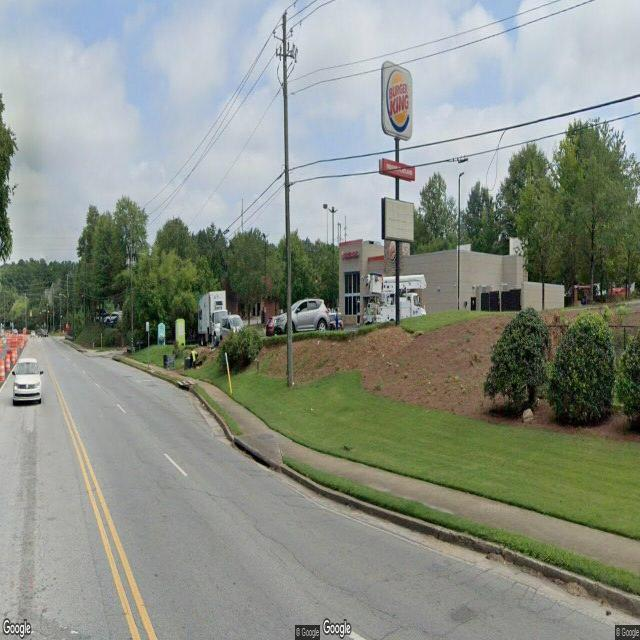seating: (165, 356, 175, 368)
trash_can: (163, 354, 167, 368)
